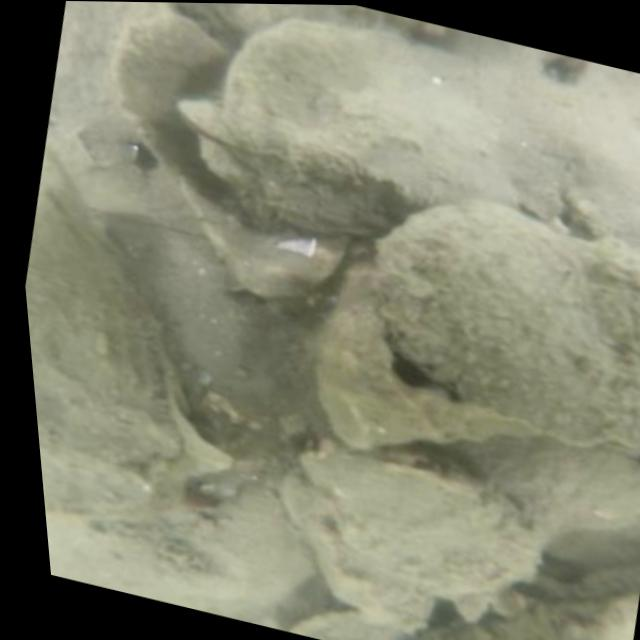Oyster-Indeterminate: (105, 9, 352, 296), (210, 20, 534, 236), (375, 202, 640, 447), (27, 163, 179, 519), (286, 449, 553, 623), (62, 487, 307, 611)
